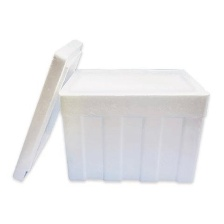foam_box: (8, 32, 214, 190)
